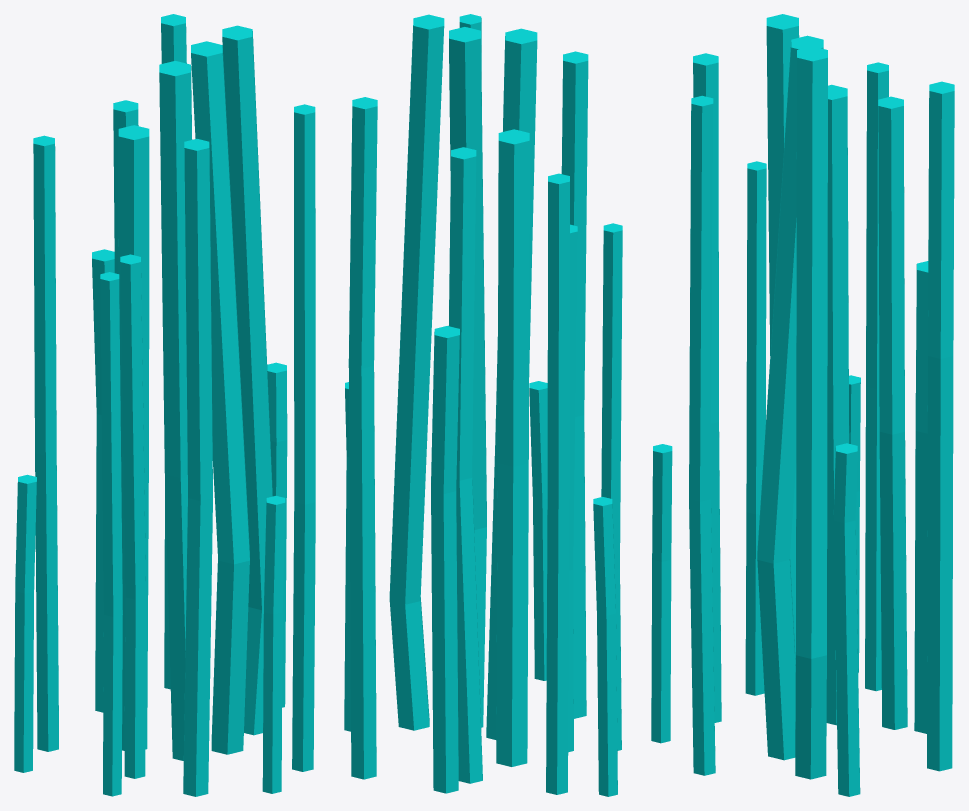
Rendered from SM_Env_Bamboo_03_Collision.fbx.
3 renders of one model, left to right at view 1: azimuth 30°, elevation 25°; view 2: azimuth 150°, elevation 25°; view 3: azimuth 270°, elevation 25°, orthographic.
Visible parts, largest first — view 1: SM_Env_Bamboo_03_Collision; view 2: SM_Env_Bamboo_03_Collision; view 3: SM_Env_Bamboo_03_Collision.
Part boxes in pixels (box(x1,y1,x2,y2)): SM_Env_Bamboo_03_Collision: box(14, 14, 315, 796); SM_Env_Bamboo_03_Collision: box(344, 14, 622, 796); SM_Env_Bamboo_03_Collision: box(651, 14, 954, 796).
Bounding box in the file's own units: 223 × 550 × 212.
